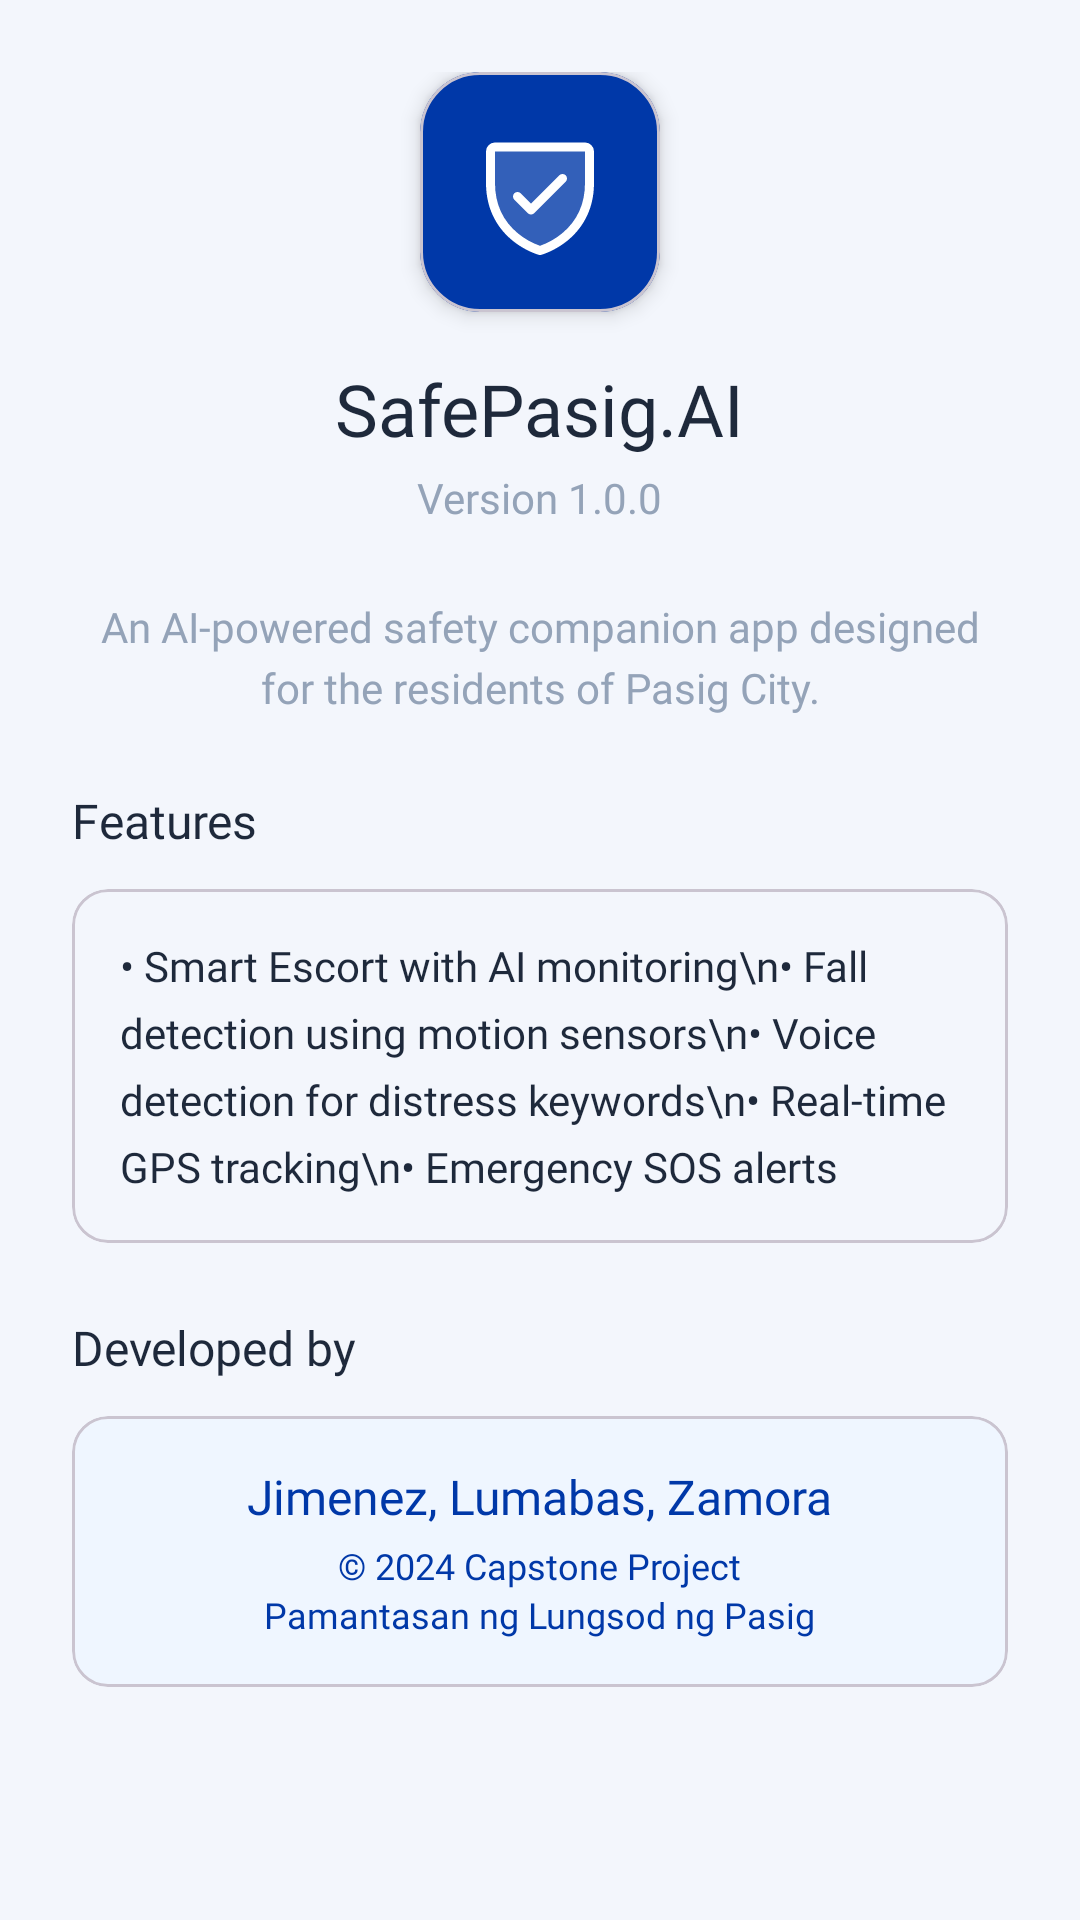

Icons on this 1080*1920 Android screen, each with the point to tap as (x=x, y=y):
shield check: (x=540, y=198)
